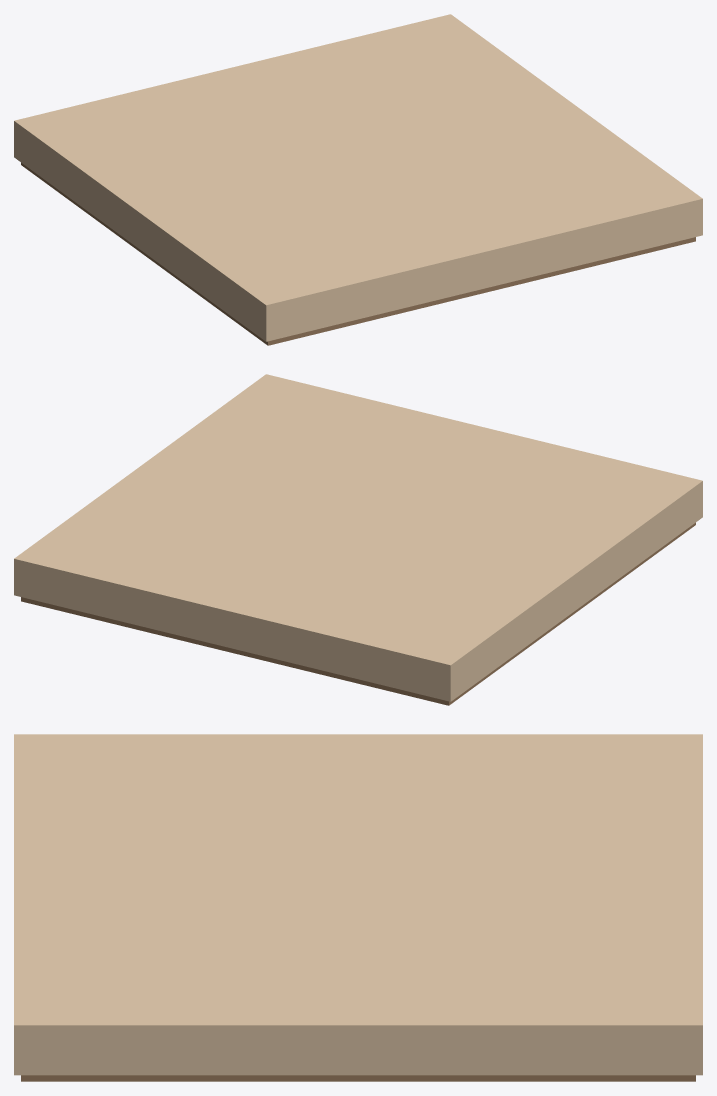
Rendered from path_stone.glb.
The picture shows the model from 3 angles, top to bottom: view 1: azimuth 30°, elevation 25°; view 2: azimuth 150°, elevation 25°; view 3: azimuth 270°, elevation 25°; orthographic projection. The views are drawn at different scales.
Parts seen in each view (by area): view 1: slab, shadow; view 2: slab, shadow; view 3: slab, shadow.
Boxes of the visible parts, x1,y1,x2,y2 form: slab: [14, 14, 702, 341]; shadow: [21, 162, 695, 345]; slab: [14, 374, 702, 701]; shadow: [21, 522, 695, 705]; slab: [14, 734, 702, 1075]; shadow: [21, 1075, 695, 1081].
Size of the model in its own units: 1 by 0.095 by 1.
